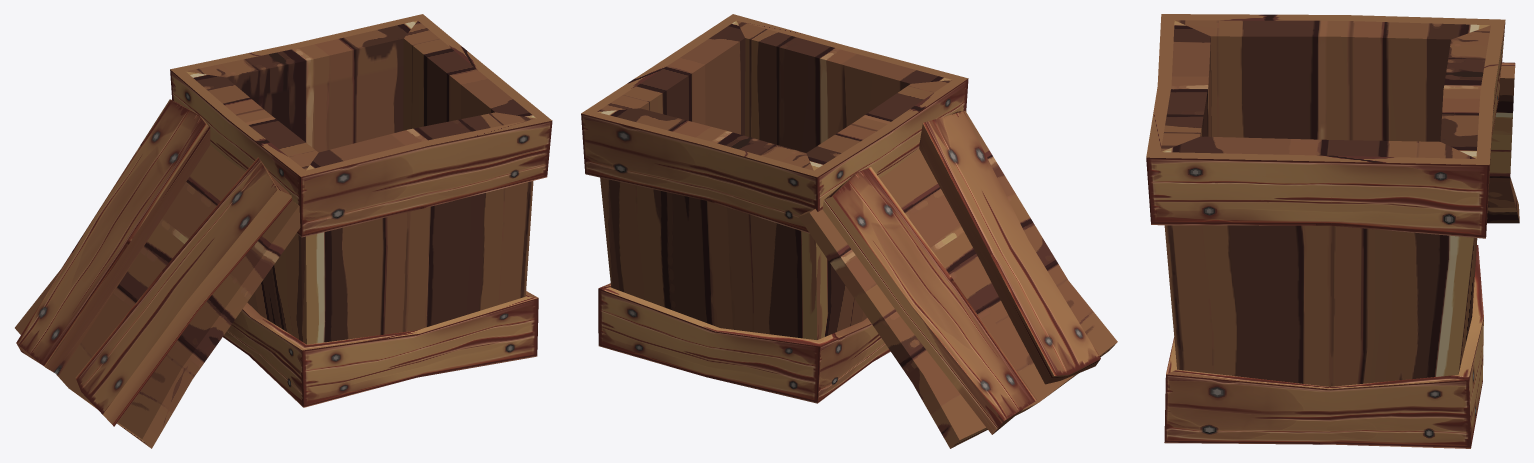
The model's file is SM_PROP_box_04.fbx.
3 views of the same model, side by side, from view 1: azimuth 30°, elevation 25°; view 2: azimuth 150°, elevation 25°; view 3: azimuth 270°, elevation 25° (orthographic). The views are drawn at different scales.
Parts seen in each view (by area): view 1: SM_PROP_box_04, SM_PROP_box_lid_04; view 2: SM_PROP_box_04, SM_PROP_box_lid_04; view 3: SM_PROP_box_04, SM_PROP_box_lid_04.
Part boxes in pixels (left/top/right/bottom): SM_PROP_box_04: left=170, top=14, right=552, bottom=407; SM_PROP_box_lid_04: left=15, top=99, right=300, bottom=448; SM_PROP_box_04: left=581, top=14, right=968, bottom=403; SM_PROP_box_lid_04: left=798, top=110, right=1117, bottom=448; SM_PROP_box_04: left=1146, top=14, right=1505, bottom=448; SM_PROP_box_lid_04: left=1487, top=62, right=1519, bottom=223.
Size of the model in its own units: 156 by 85.83 by 98.15.
